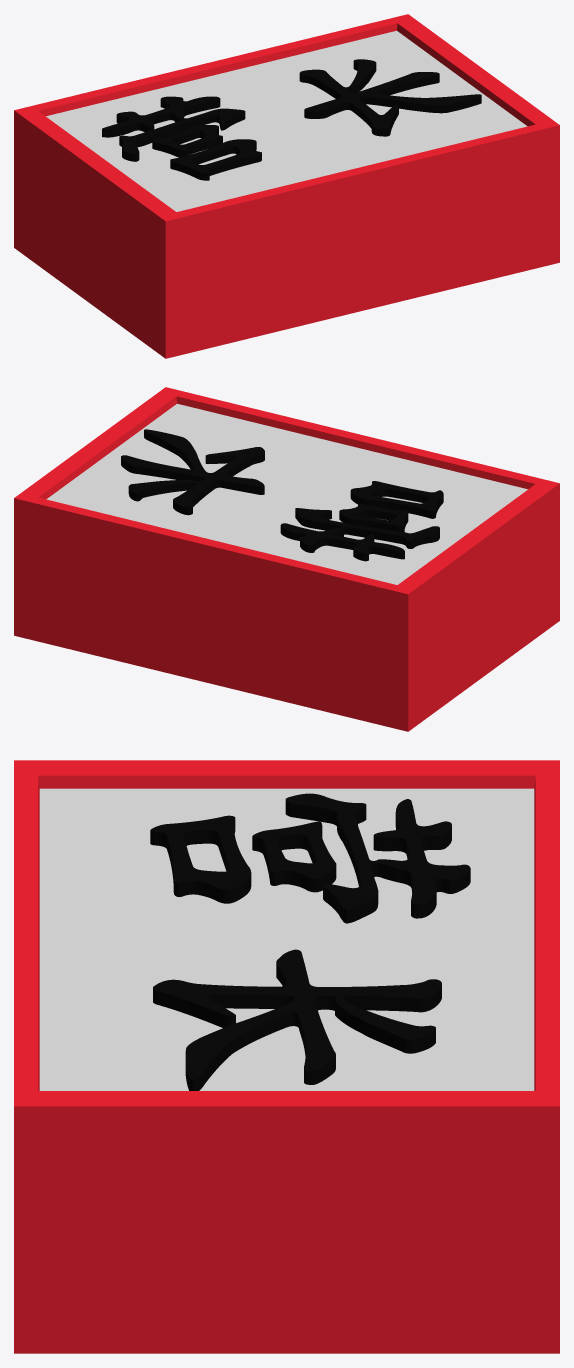
The model's file is 6_ying_zhang.fbx.
3 views of the same model, one above another, from view 1: azimuth 30°, elevation 25°; view 2: azimuth 150°, elevation 25°; view 3: azimuth 270°, elevation 25° (orthographic). The views are drawn at different scales.
Parts seen in each view (by area): view 1: Cube, 文本; view 2: Cube, 文本; view 3: Cube, 文本.
Part boxes in pixels (bbox=[...]): Cube: bbox=[14, 14, 559, 358]; 文本: bbox=[102, 59, 481, 180]; Cube: bbox=[14, 387, 559, 731]; 文本: bbox=[121, 429, 443, 561]; Cube: bbox=[14, 760, 559, 1353]; 文本: bbox=[150, 793, 470, 1090].
Bounding box in the file's own units: 240 × 80.47 × 160.
